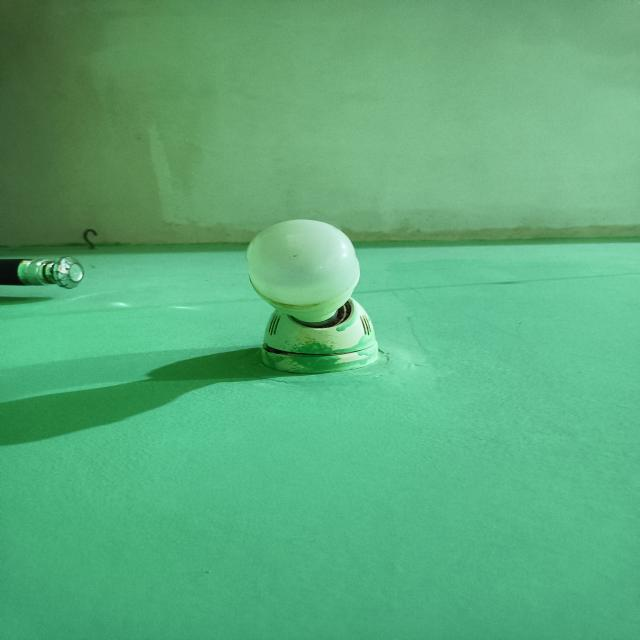bulb_off: (244, 218, 377, 375)
